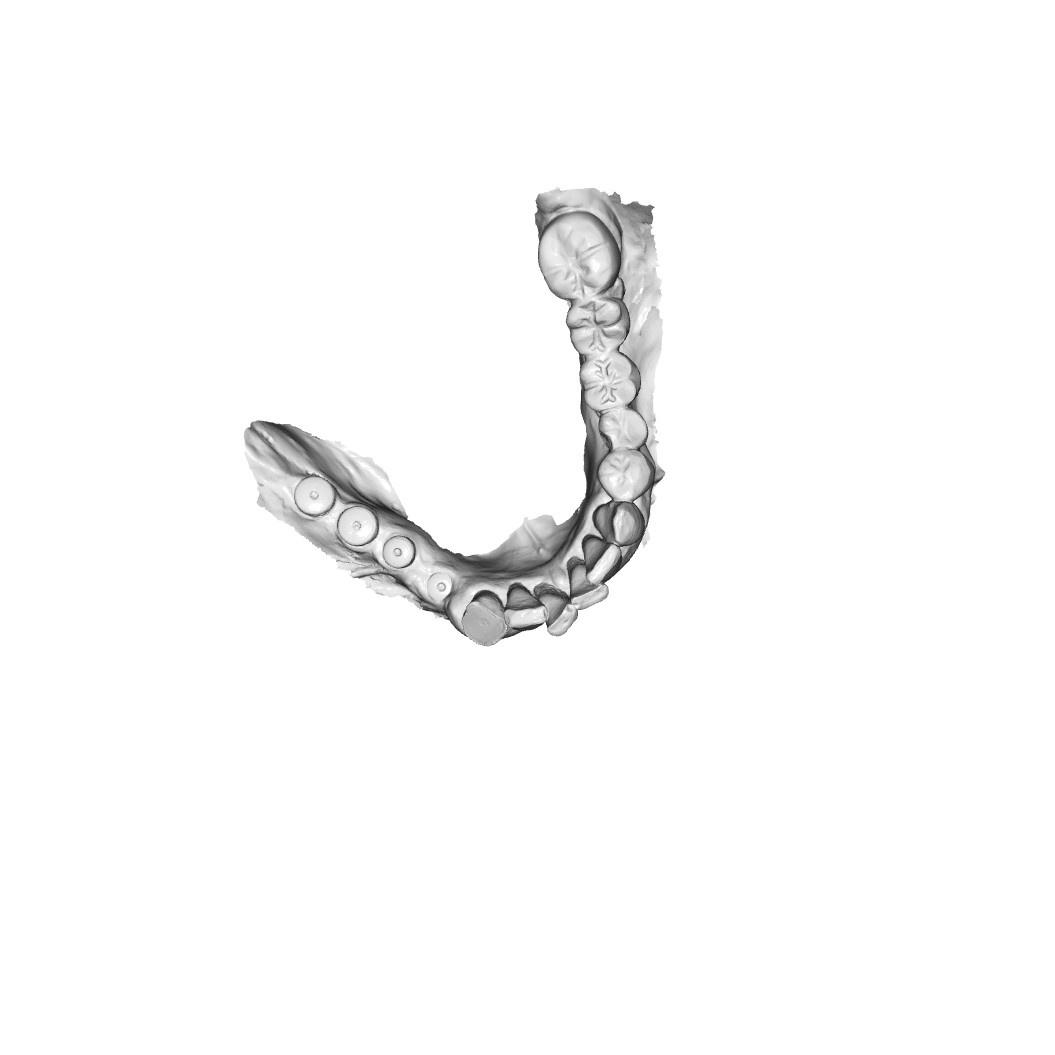canine: (459, 590, 516, 650), (591, 498, 641, 543)
implant: (294, 465, 338, 522), (338, 495, 382, 549), (383, 534, 415, 583), (429, 573, 466, 614)
incisor: (578, 532, 628, 583), (506, 579, 546, 634), (536, 582, 577, 634), (570, 565, 610, 609)
molar: (538, 212, 615, 298), (561, 294, 637, 369), (578, 356, 638, 411)
premolar: (602, 448, 646, 502), (598, 402, 646, 448)
